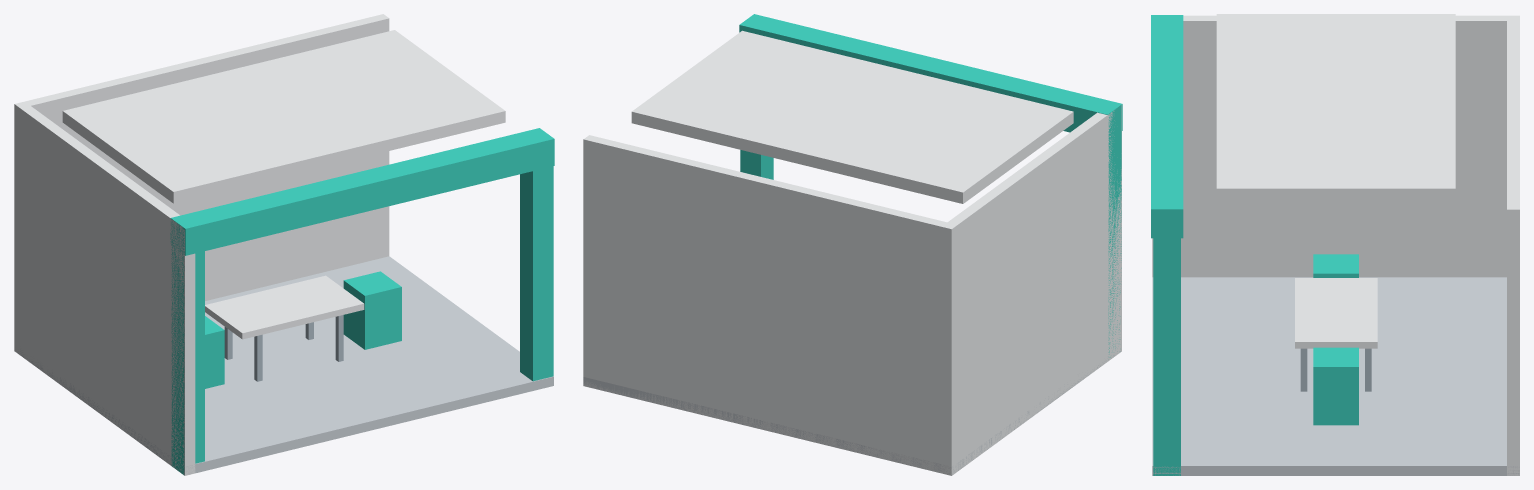
3 renders of one model, left to right at view 1: azimuth 30°, elevation 25°; view 2: azimuth 150°, elevation 25°; view 3: azimuth 270°, elevation 25°, orthographic. The views are drawn at different scales.
Visible parts, largest first — view 1: Exhibition Booth Concept; view 2: Exhibition Booth Concept; view 3: Exhibition Booth Concept.
Boxes of the visible parts, x1=… form: Exhibition Booth Concept: x1=14, y1=14, x2=554, y2=475; Exhibition Booth Concept: x1=583, y1=14, x2=1122, y2=475; Exhibition Booth Concept: x1=1151, y1=14, x2=1519, y2=475.
Bounding box in the file's own units: 5 × 3.34 × 4.02.
